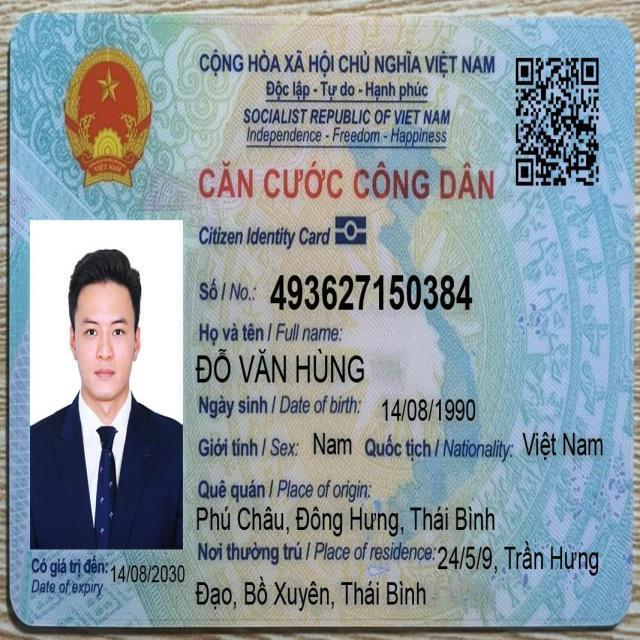current_place: (192, 572, 431, 616), (435, 539, 603, 582)
dob: (378, 389, 479, 430)
expire_date: (108, 557, 188, 589)
gender: (310, 426, 357, 463)
id: (267, 264, 477, 318)
name: (192, 343, 369, 390)
nationality: (518, 424, 607, 464)
origin_place: (191, 498, 499, 542)
